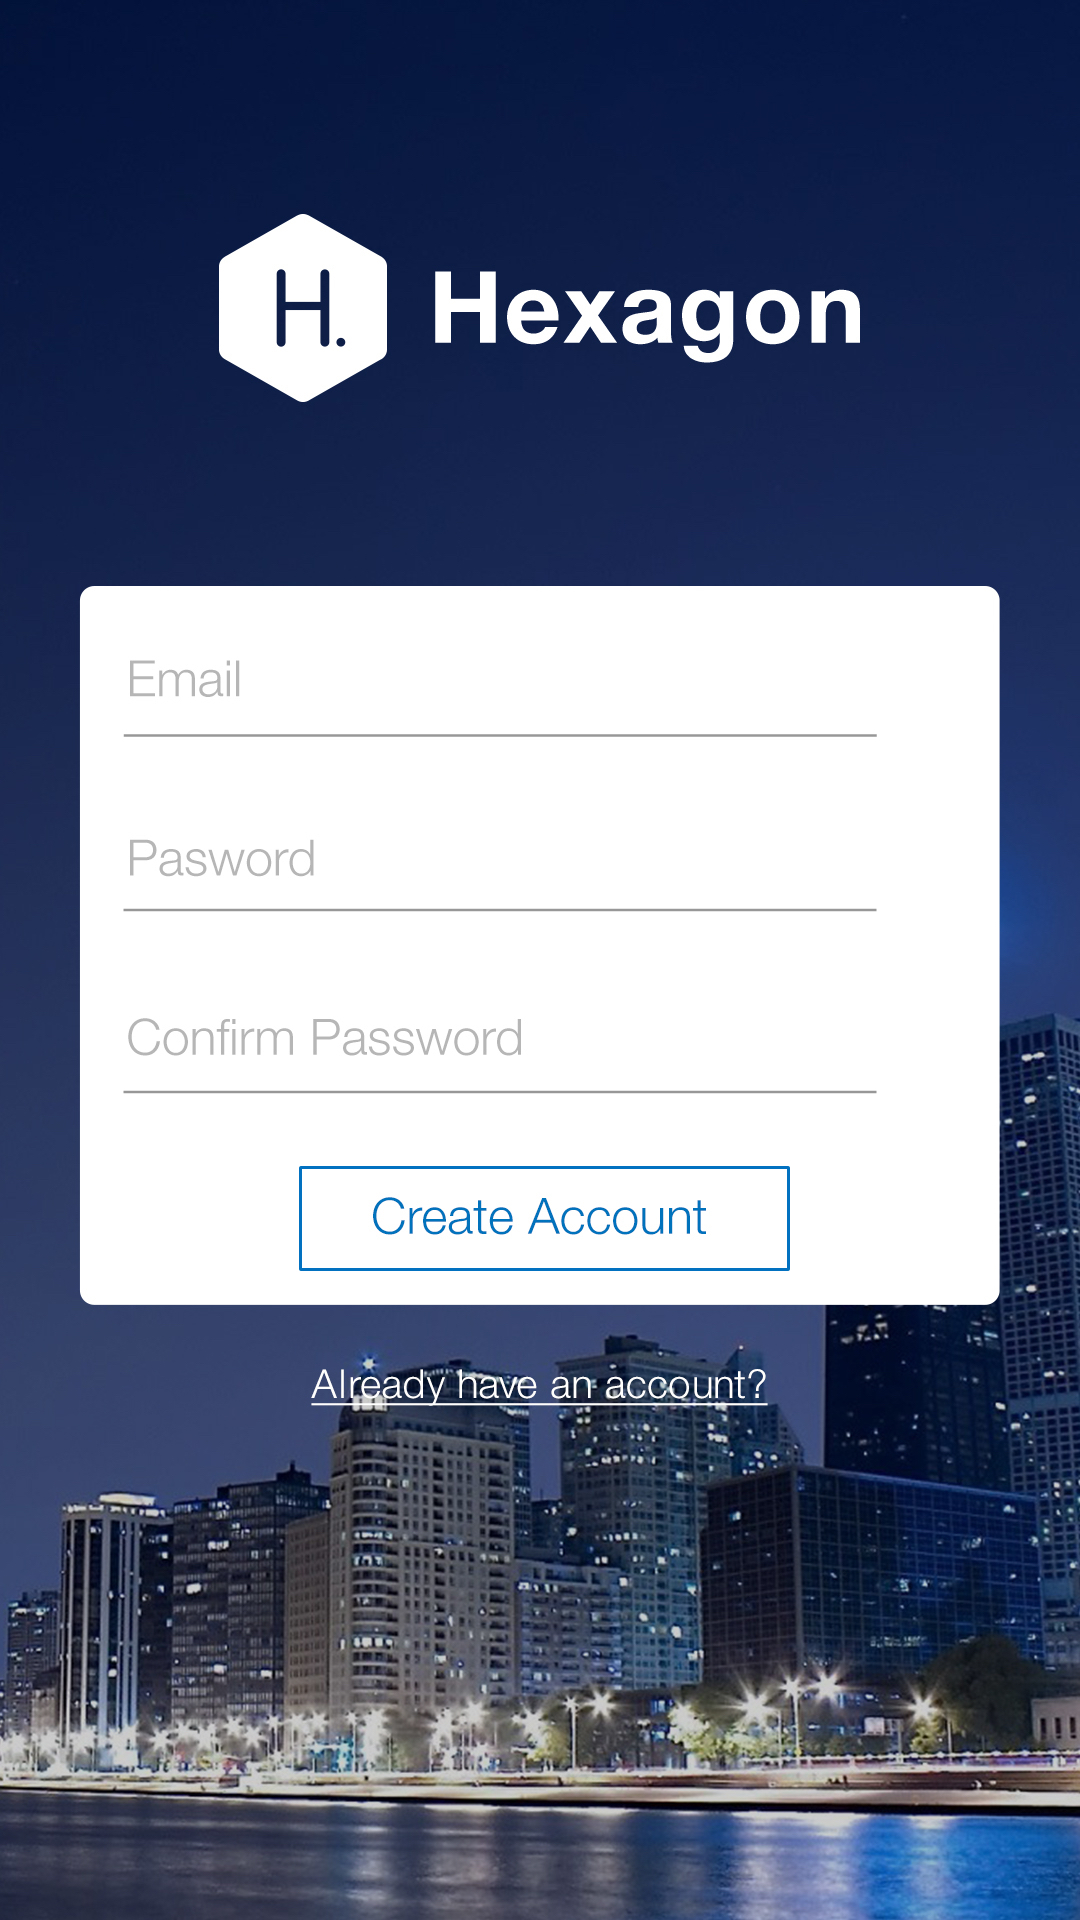BackgroundImage: (1, 1, 1080, 1920)
EditText: (124, 659, 878, 738), (123, 1017, 878, 1095), (124, 839, 878, 913)
Image: (219, 214, 389, 404)
Text: (435, 272, 861, 365), (311, 1367, 769, 1407), (128, 1017, 522, 1058), (131, 839, 315, 877), (131, 659, 241, 699)
TextButton: (299, 1166, 791, 1273)
